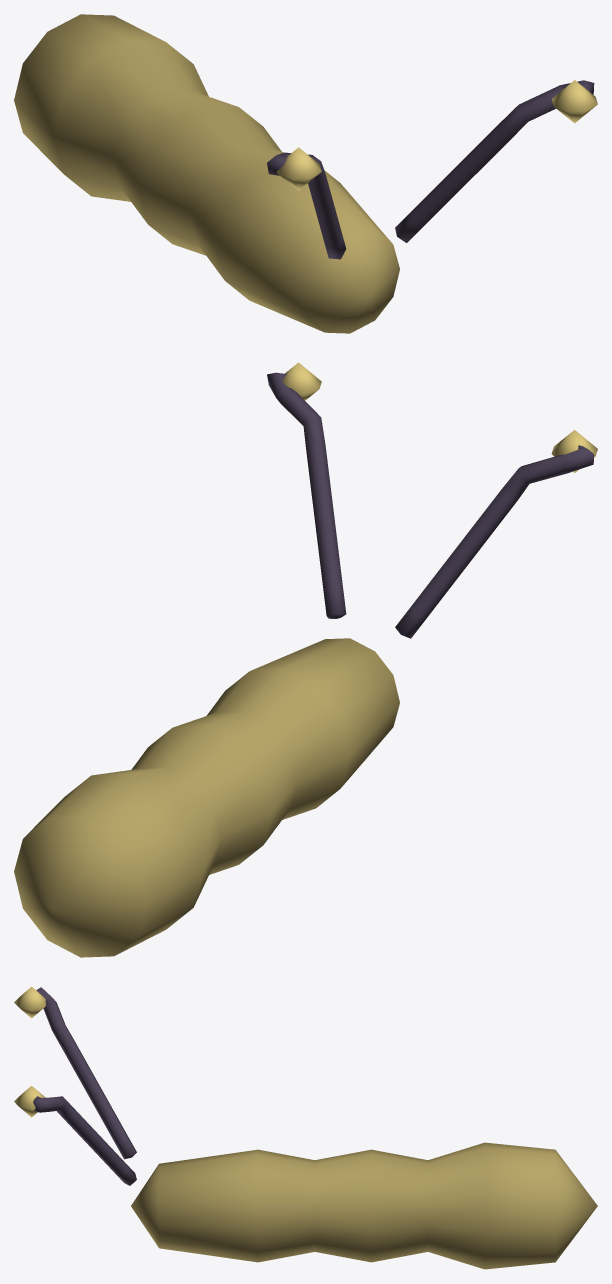
File: SH_Fly_Body_Lemon.fbx
3 views of the same model, one above another, from view 1: azimuth 30°, elevation 25°; view 2: azimuth 150°, elevation 25°; view 3: azimuth 270°, elevation 25° (orthographic). The views are drawn at different scales.
Visible parts, largest first — view 1: SH_Fly_Body_Lemon; view 2: SH_Fly_Body_Lemon; view 3: SH_Fly_Body_Lemon.
Part boxes in pixels (box(x1,y1,x2,y2)): SH_Fly_Body_Lemon: box(14, 14, 597, 333); SH_Fly_Body_Lemon: box(14, 362, 597, 957); SH_Fly_Body_Lemon: box(14, 986, 597, 1269).
Size of the model in its own units: 0.0393 by 0.0355 by 0.0825.
